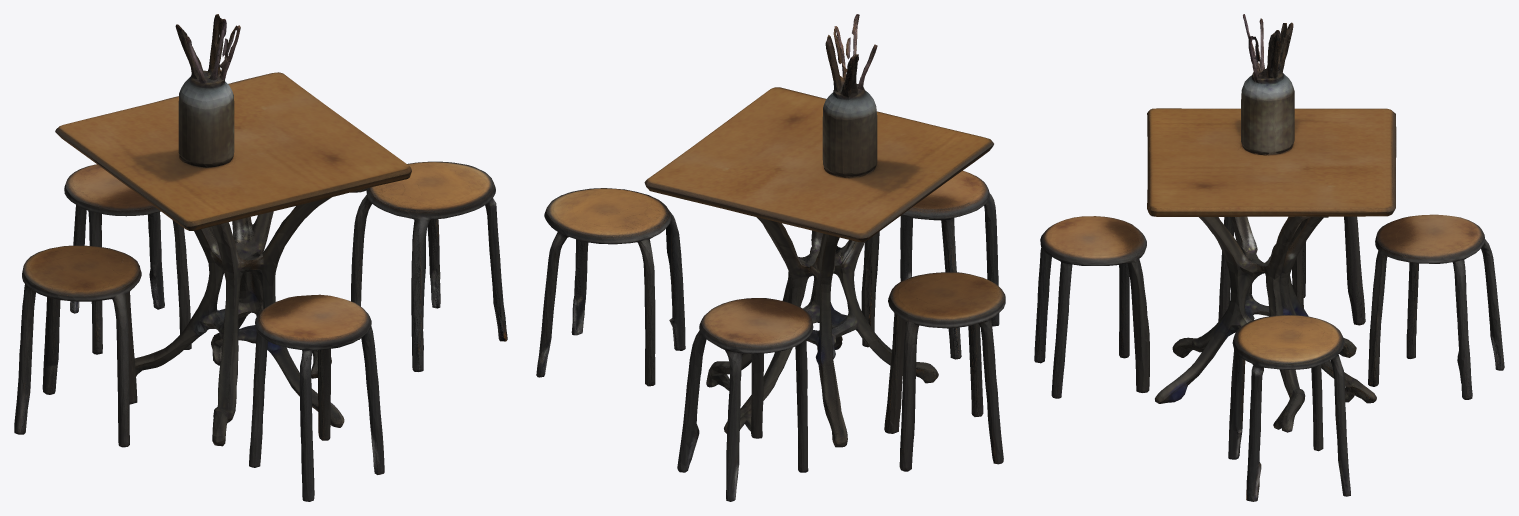
The model's file is 018_obj_036_white_gemini.glb.
3 renders of one model, left to right at view 1: azimuth 30°, elevation 25°; view 2: azimuth 150°, elevation 25°; view 3: azimuth 270°, elevation 25°, orthographic. The views are drawn at different scales.
Parts seen in each view (by area): view 1: world; view 2: world; view 3: world.
Boxes of the visible parts, x1,y1,x2,y2 form: world: (14, 14, 507, 501); world: (536, 14, 1005, 501); world: (1034, 14, 1504, 501).
Bounding box in the file's own units: 0.9678 × 0.7911 × 0.9221.
1 material, 1 textured.
